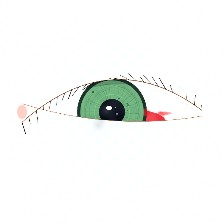hemorrhage_spot: (95, 90, 178, 157)
